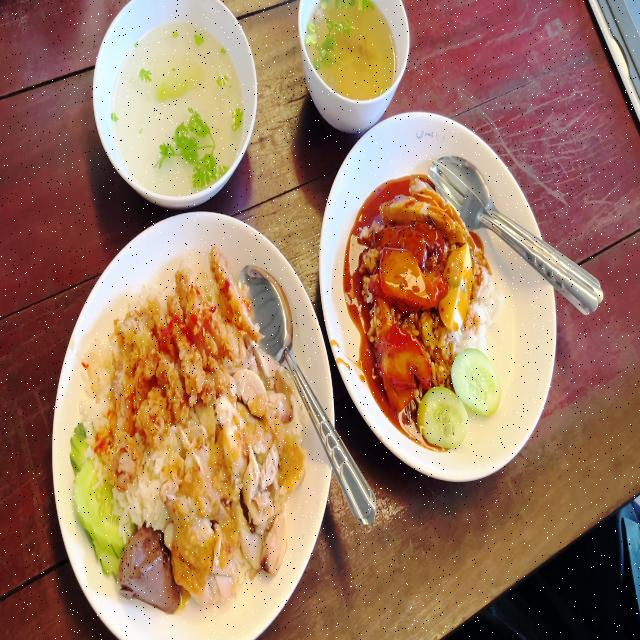boiled_chicken: (169, 365, 298, 568)
boiled_chicken_blood_jelly: (117, 527, 181, 612)
boiled_egg: (441, 240, 473, 330)
chainese_sausage: (374, 214, 440, 259)
chicken_rice: (67, 240, 307, 617)
crispy_pork: (379, 179, 468, 237)
cucumber: (66, 419, 128, 575), (419, 382, 469, 451), (452, 353, 502, 405)
fried_chicken: (94, 252, 244, 474)
red_pork: (376, 322, 430, 404), (380, 245, 444, 304)
red_pork_and_crispy_pork: (353, 184, 504, 450)
